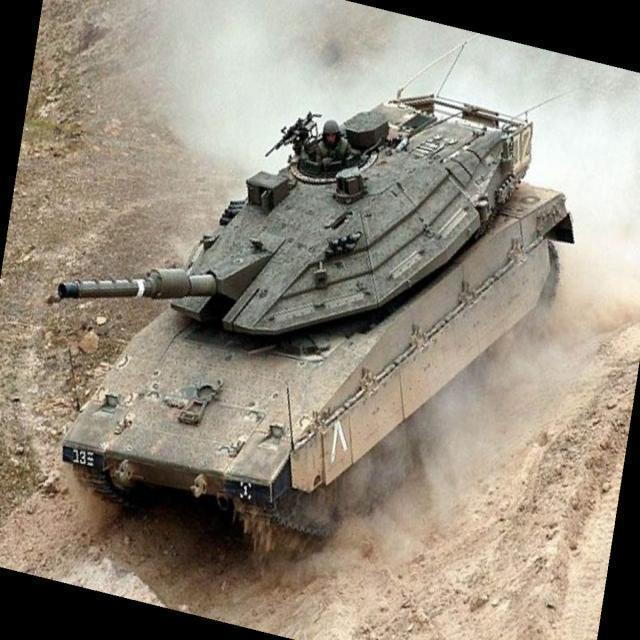Tanks: (58, 78, 575, 564)
